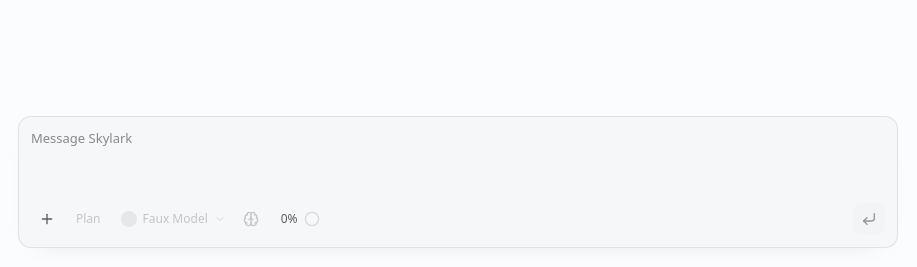
it: ChatWorkbench › filters workspace file suggestions by the current at token
Type "@read" into the text box labelled "Message Skylark" at coordinates (458, 157), box [19,117,897,197]
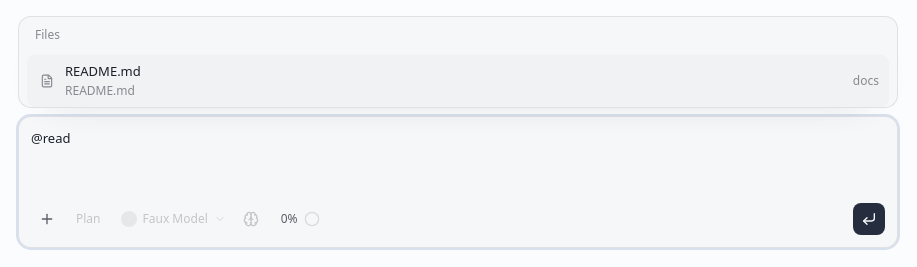
Now the 1st text "README.md" is shown, box [65,62,141,80]
